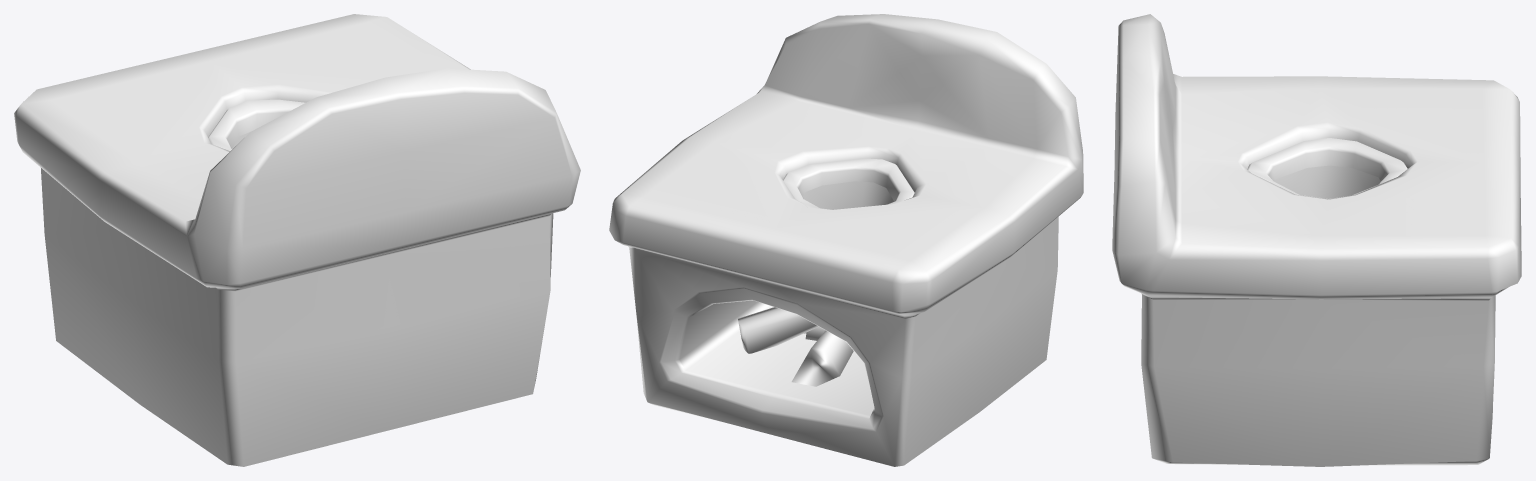
Rendered from P_StoneKitchenStove.glb.
3 views of the same model, side by side, from view 1: azimuth 30°, elevation 25°; view 2: azimuth 150°, elevation 25°; view 3: azimuth 270°, elevation 25° (orthographic). The views are drawn at different scales.
Visible parts, largest first — view 1: P_StoneKitchenStove; view 2: P_StoneKitchenStove; view 3: P_StoneKitchenStove.
Boxes of the visible parts, x1=… form: P_StoneKitchenStove: x1=14, y1=14, x2=580, y2=466; P_StoneKitchenStove: x1=609, y1=14, x2=1083, y2=466; P_StoneKitchenStove: x1=1112, y1=14, x2=1521, y2=466.
Size of the model in its own units: 1.04 by 0.9059 by 0.9865.
1 material, 1 textured.
